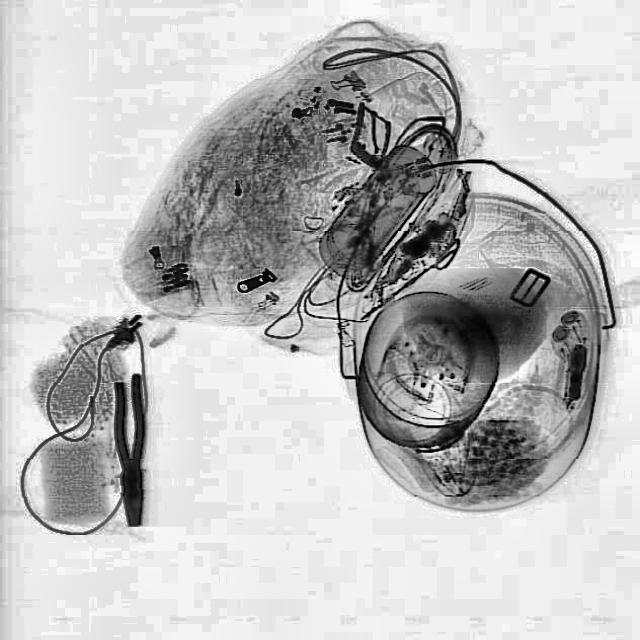Pliers: (110, 374, 152, 526)
